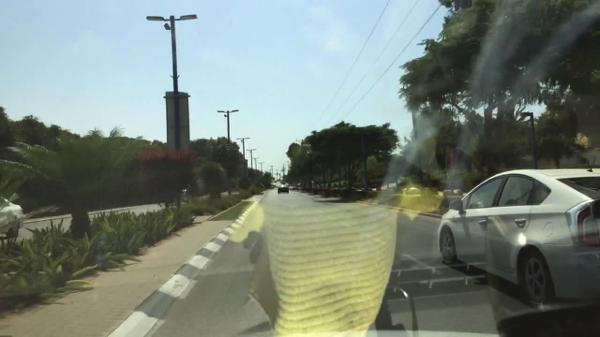car: (437, 168, 598, 307), (0, 197, 25, 239), (403, 186, 421, 195), (277, 184, 289, 195), (443, 190, 462, 195), (347, 187, 362, 192), (289, 185, 296, 190), (270, 184, 277, 188), (280, 181, 286, 184)
traffic sign: (166, 93, 190, 151)
